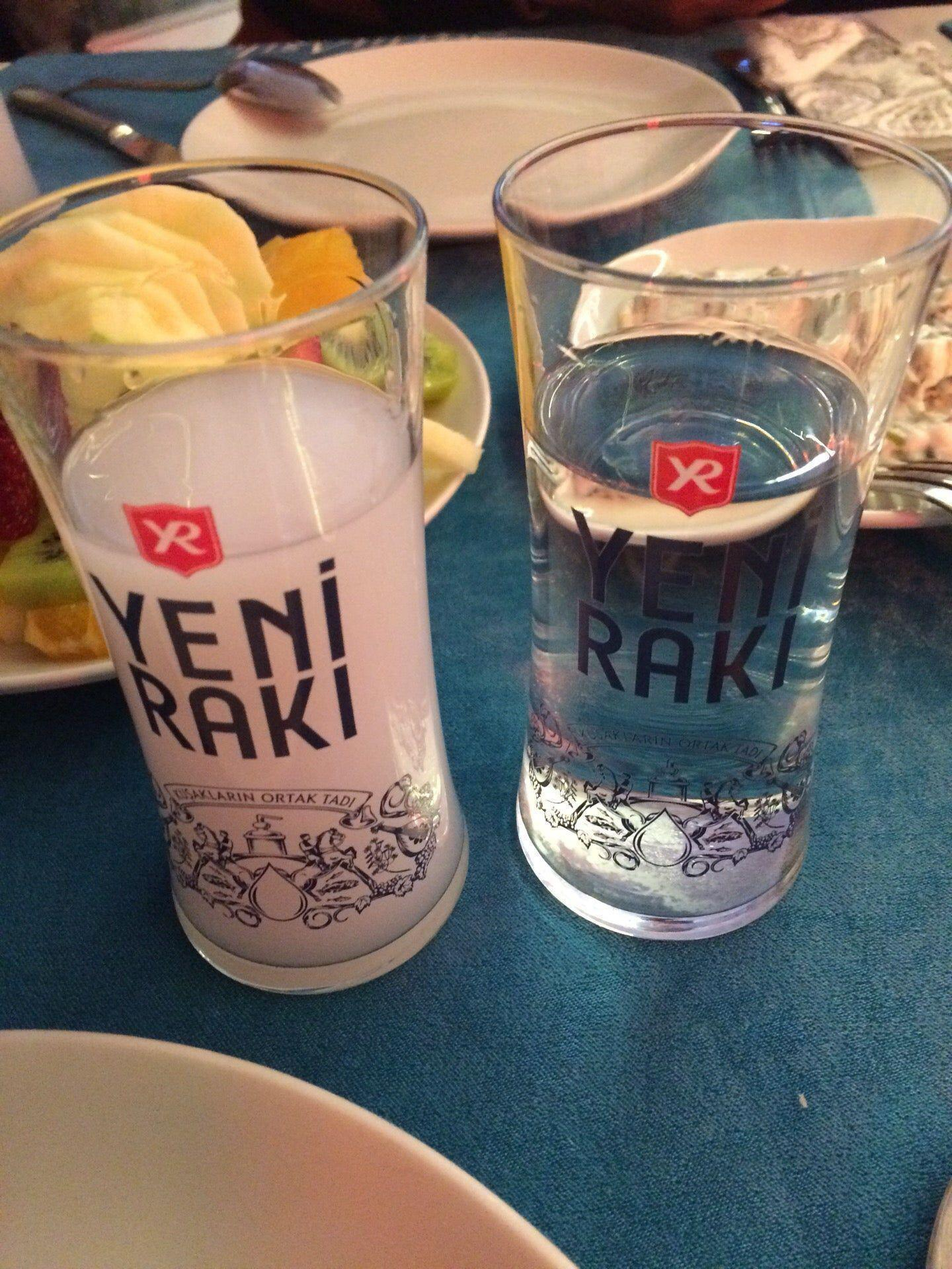glass-normal: (1, 152, 470, 995), (489, 107, 952, 942)
